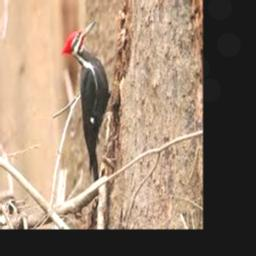Woodpecker: (60, 20, 110, 182)
